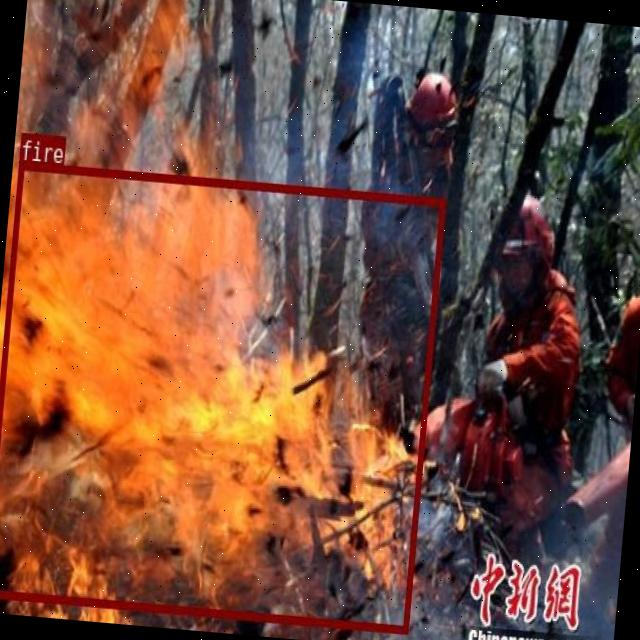fire: (0, 159, 444, 632)
